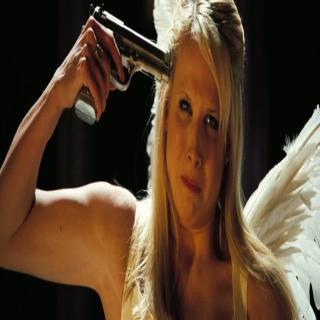gun: (74, 1, 172, 124)
